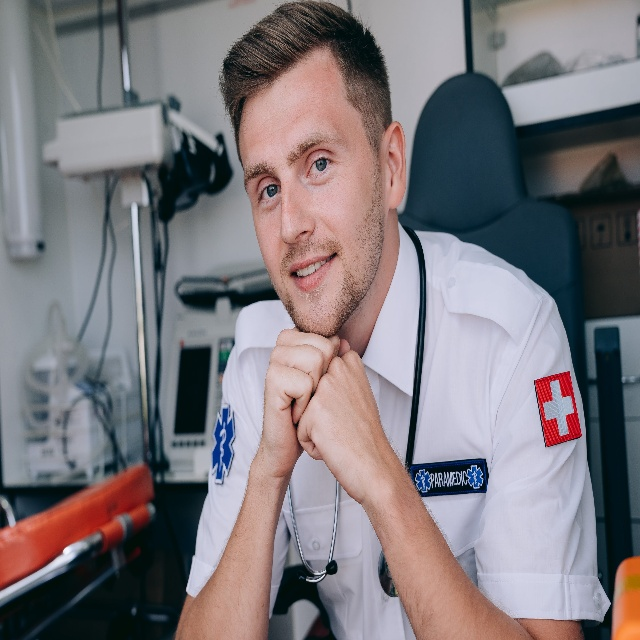Sin_guantes: (296, 341, 388, 506), (253, 329, 347, 470)
